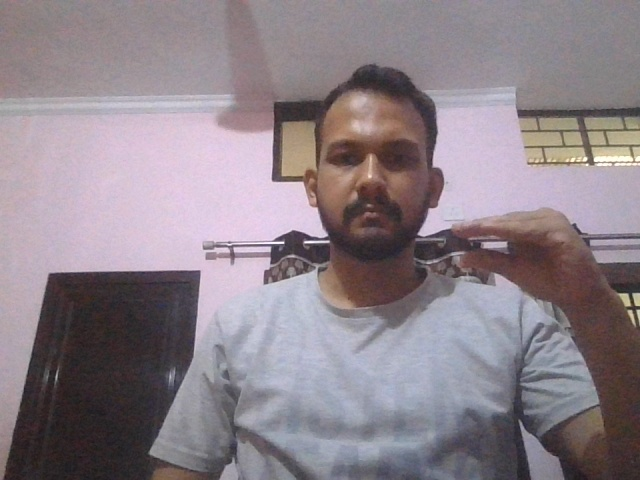no: (451, 207, 610, 305)
